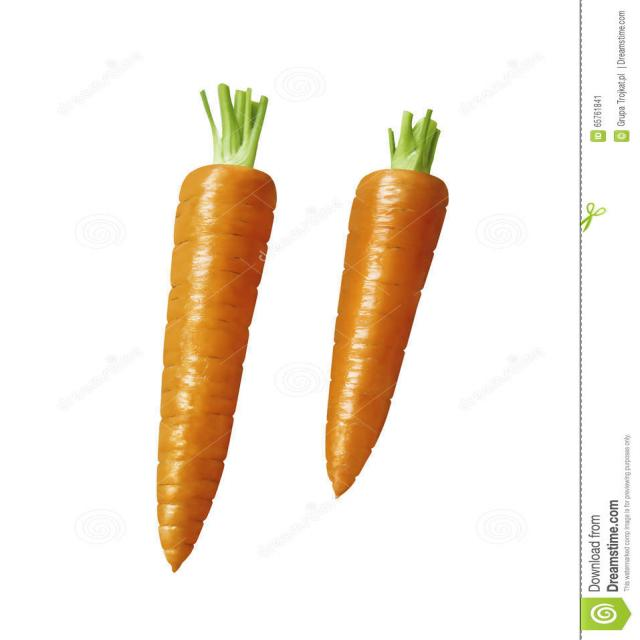Carrot: (144, 85, 278, 575), (325, 112, 454, 500)
